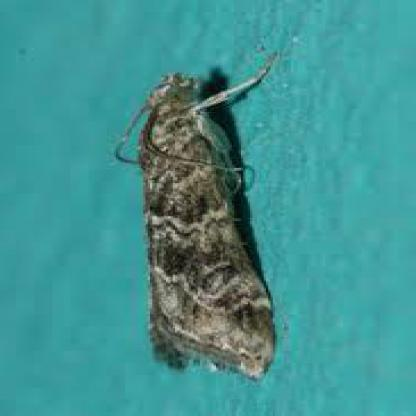Hellula undalis: (99, 45, 284, 379)
